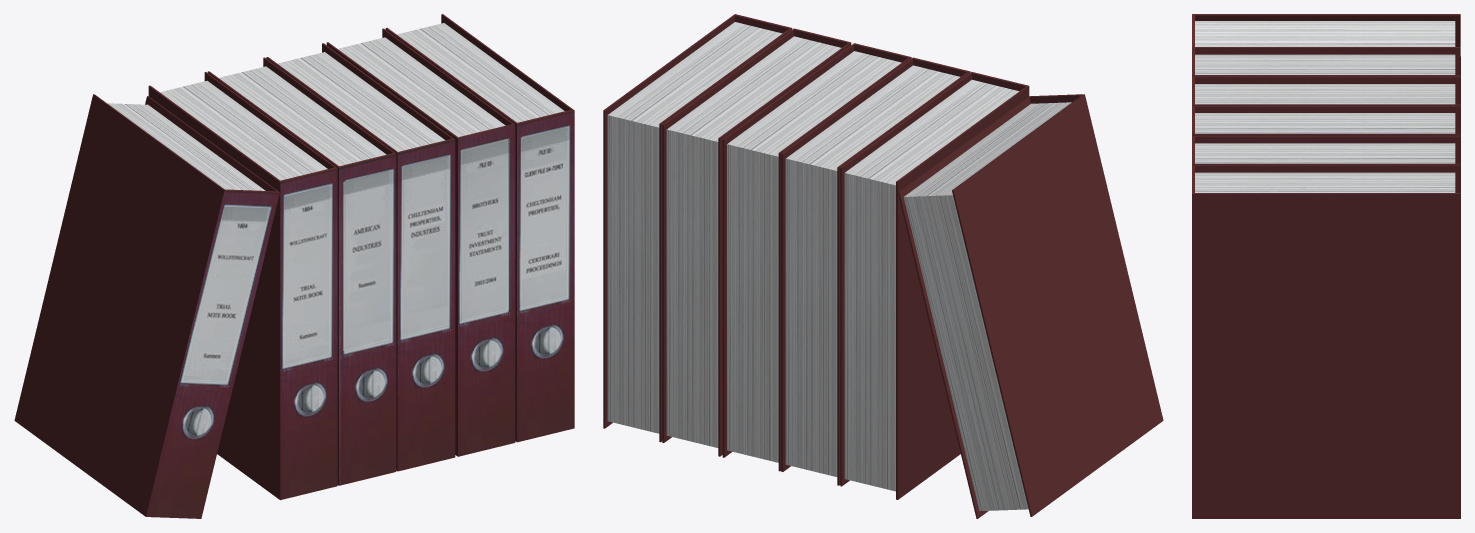
Rendered from Files 3.FBX.
The picture shows the model from 3 angles, left to right: view 1: azimuth 30°, elevation 25°; view 2: azimuth 150°, elevation 25°; view 3: azimuth 270°, elevation 25°; orthographic projection. The views are drawn at different scales.
Visible parts, largest first — view 1: Files 3; view 2: Files 3; view 3: Files 3.
Part boxes in pixels (x1=…): Files 3: x1=14, y1=14, x2=574, y2=518; Files 3: x1=603, y1=14, x2=1163, y2=518; Files 3: x1=1192, y1=14, x2=1460, y2=518.
Bounding box in the file's own units: 48.22 × 34.76 × 25.64.
1 material, 1 textured.
